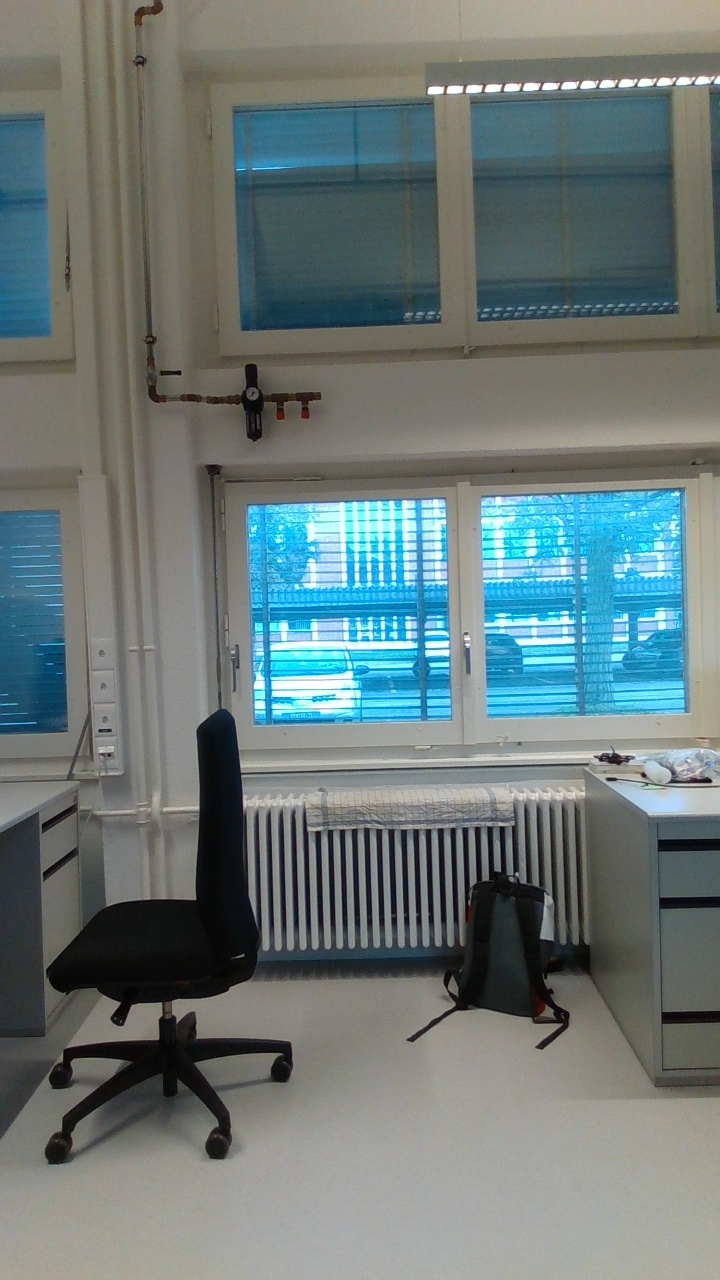Radiator: (266, 782, 580, 955)
